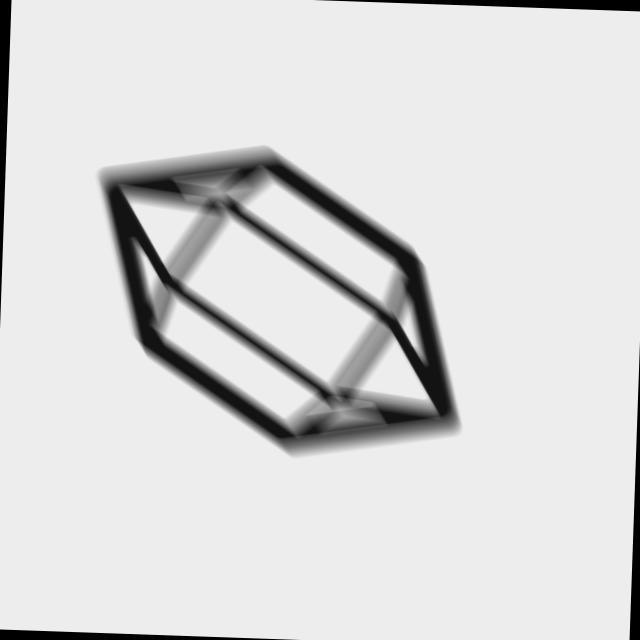crystal: (81, 133, 480, 474)
